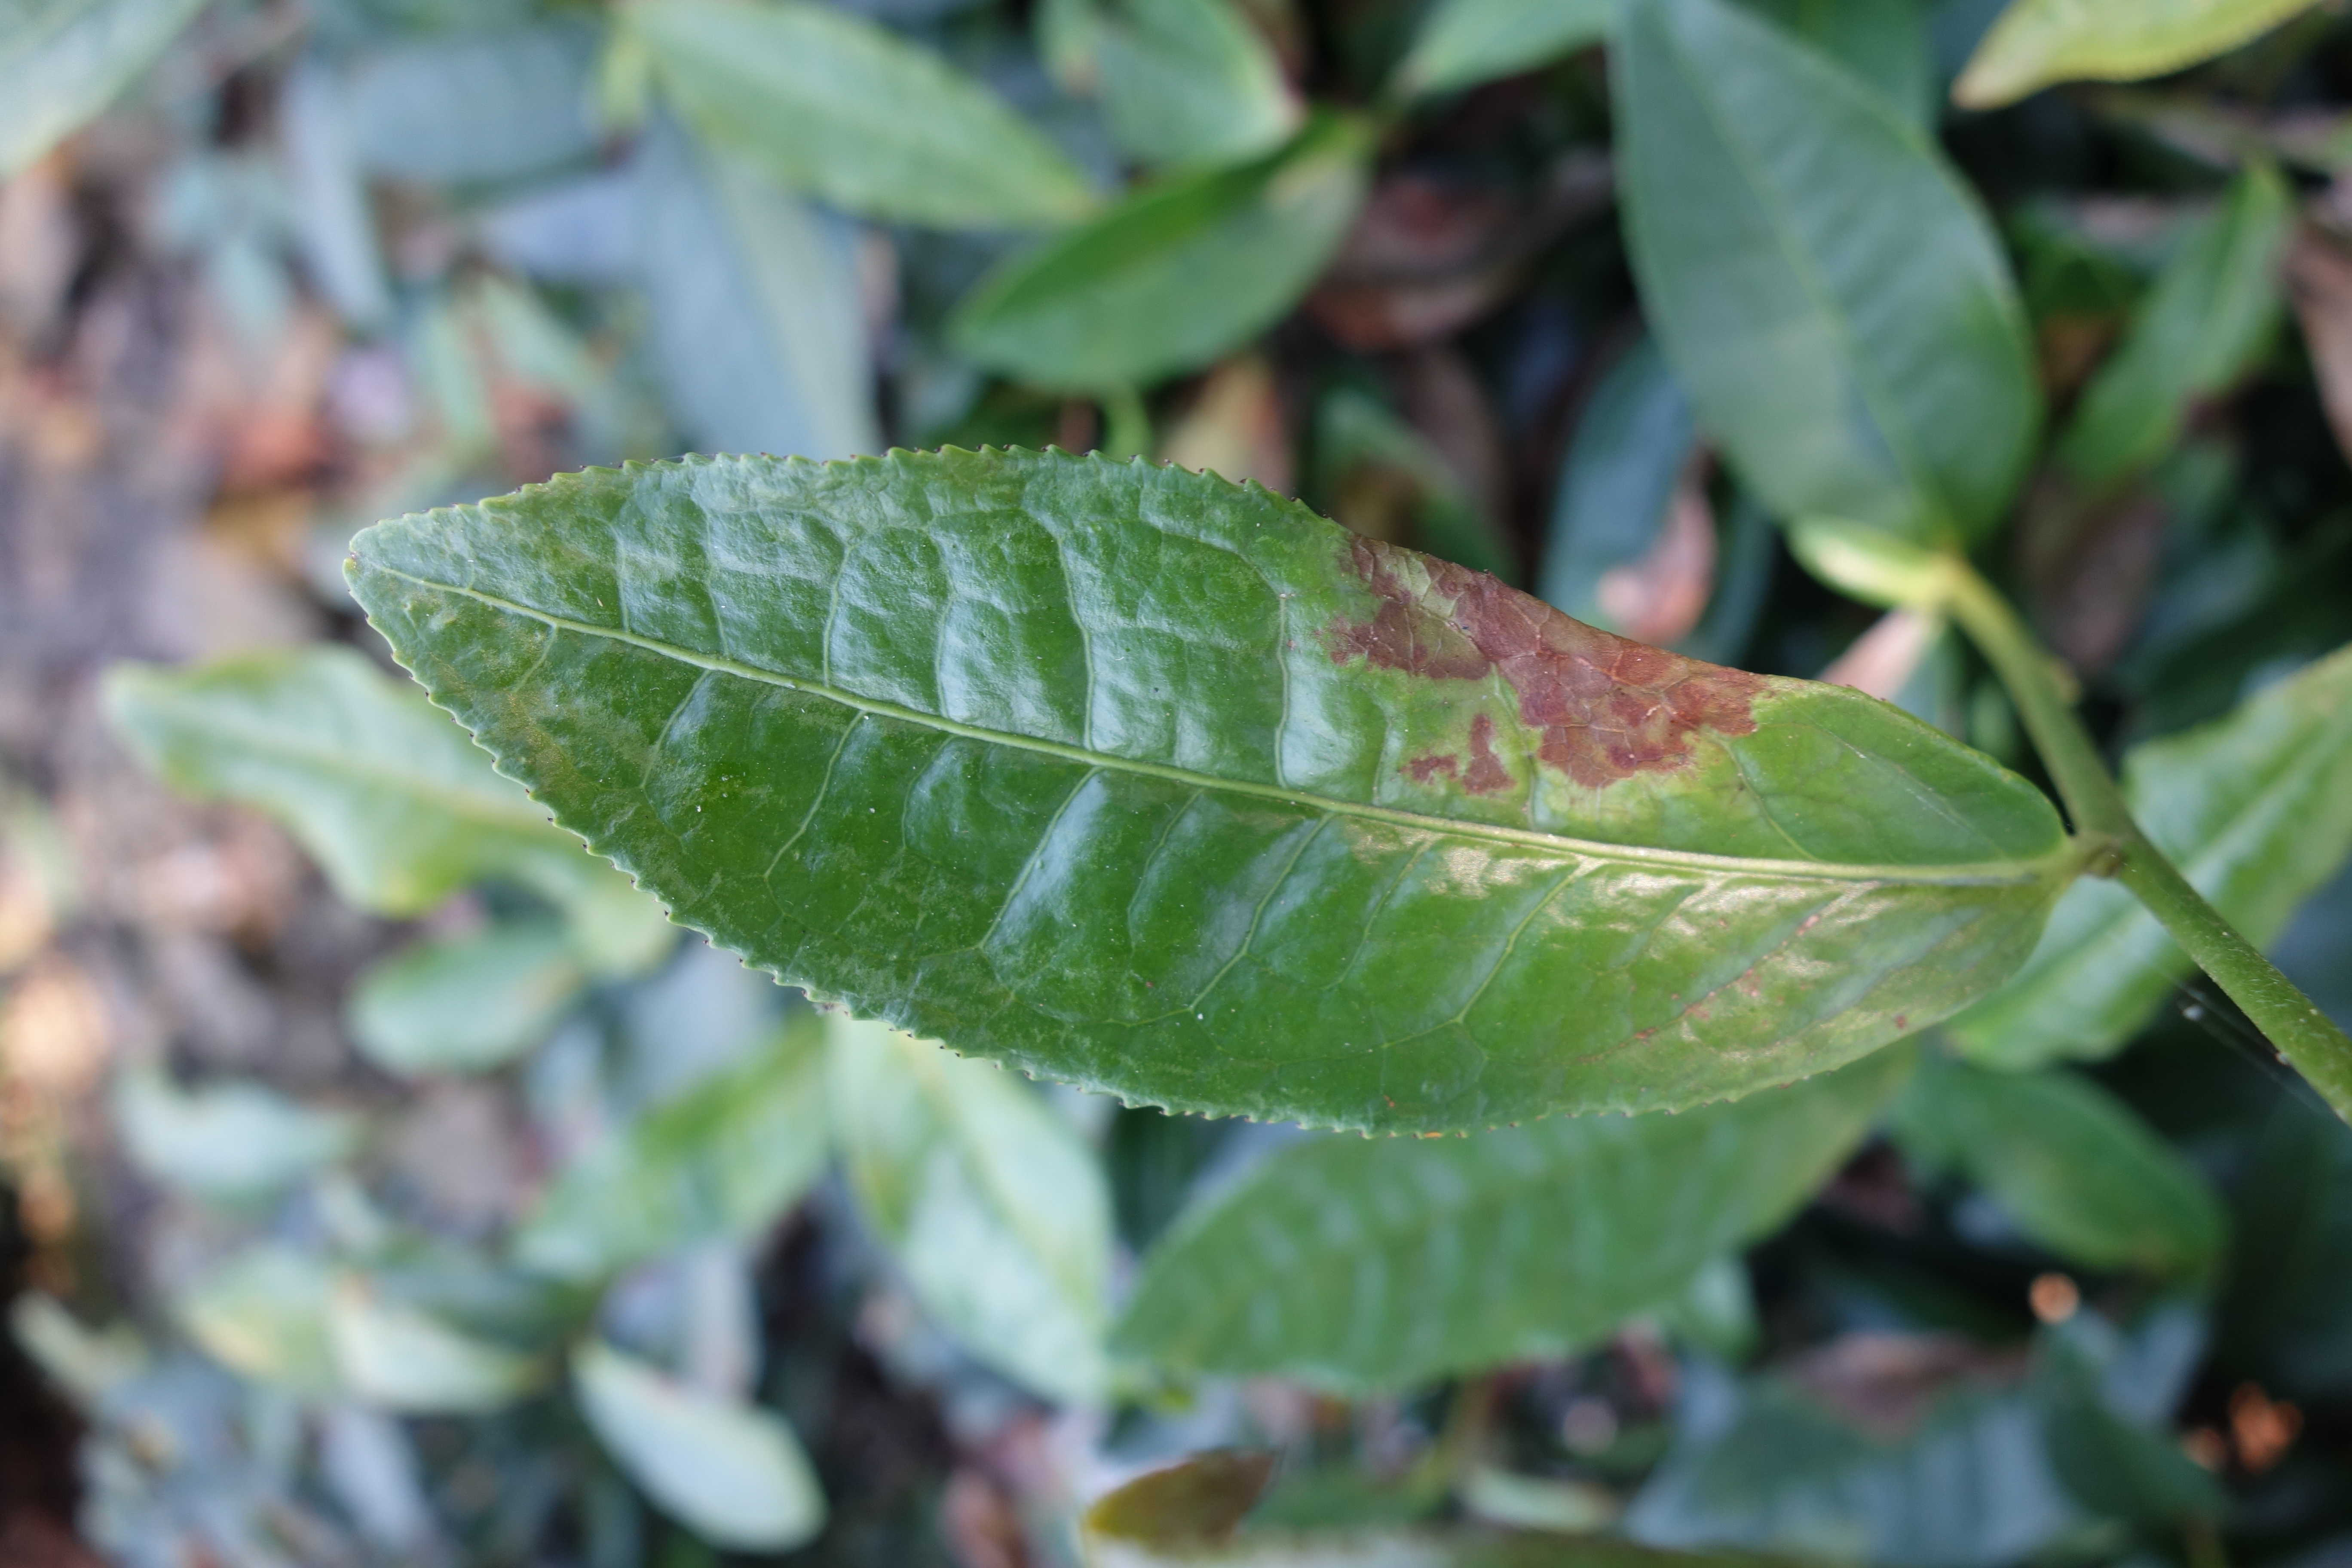tanju_high: (345, 441, 2074, 1143)
